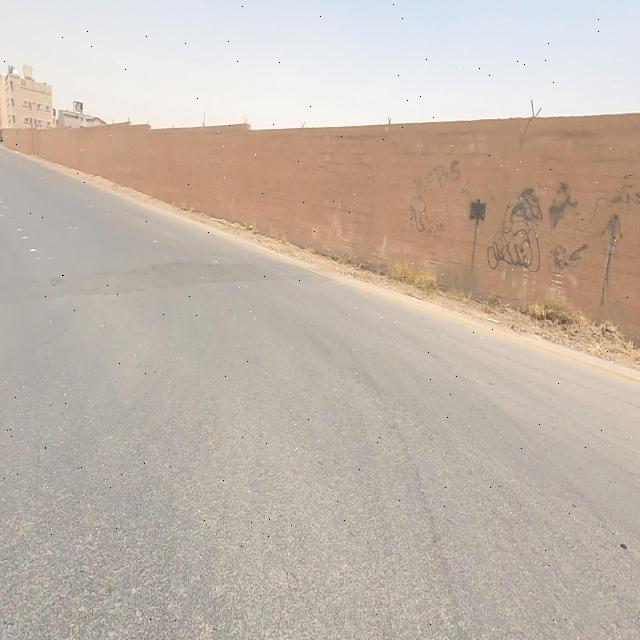Graffiti: (469, 173, 640, 287), (405, 160, 463, 239)
